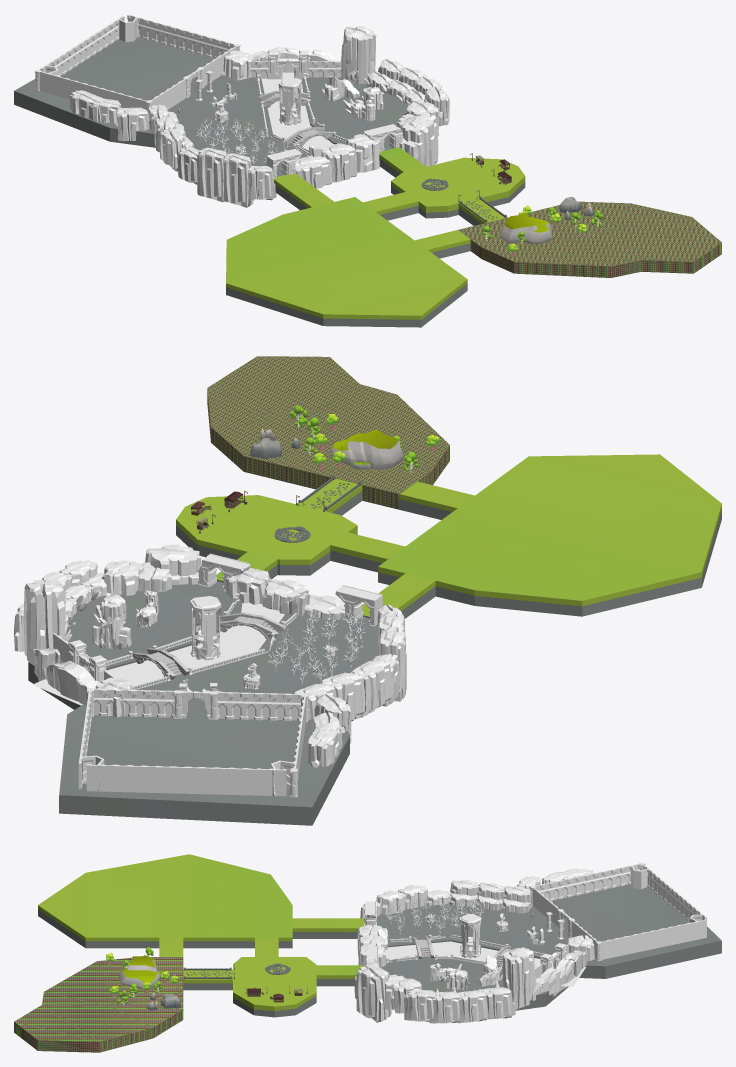
The model's file is map1.glb.
The picture shows the model from 3 angles, top to bottom: view 1: azimuth 30°, elevation 25°; view 2: azimuth 150°, elevation 25°; view 3: azimuth 270°, elevation 25°; orthographic projection. The views are drawn at different scales.
Parts seen in each view (by area): view 1: MiddleLevelFloor, HighLevelFloor, LowLevelFloor, CityFloor, SM_Env_Rock_Cliff_Cut_01, SM_Env_Lava_Plane_01, SM_Env_Rock_Cliff_Cut_01__21_, SM_Env_Rock_Cliff_Cut_01__22_, PathFloor_3, SM_Env_Rock_Cliff_Cut_01__12_, Rock_Platform_Medium_GrassVariant, SM_Env_Rock_Cliff_Cut_01__3_ (+15 smaller); view 2: MiddleLevelFloor, HighLevelFloor, LowLevelFloor, CityFloor, SM_Env_Lava_Plane_01, SM_Env_Rock_Cliff_Cut_01, Rock_Platform_Medium_GrassVariant, PathFloor_1, PathFloo, Scene.077, PathFloor_3, SM_Env_Rock_Cliff_Cut_01__32_ (+23 smaller); view 3: MiddleLevelFloor, HighLevelFloor, LowLevelFloor, CityFloor, SM_Env_Rock_Cliff_Cut_01, SM_Env_Rock_Cliff_Cut_01__12_, PathFloor_3, SM_Env_Lava_Plane_01, PathFloor, Rock_Platform_Medium_GrassVariant, PathFloor_2, SM_Env_Rock_Cliff_Cut_01__26_ (+29 smaller).
Part boxes in pixels (bbox=[...]): MiddleLevelFloor: bbox=[226, 197, 467, 327]; HighLevelFloor: bbox=[14, 37, 408, 195]; LowLevelFloor: bbox=[458, 201, 721, 277]; CityFloor: bbox=[391, 157, 525, 218]; SM_Env_Rock_Cliff_Cut_01: bbox=[341, 26, 376, 83]; SM_Env_Lava_Plane_01: bbox=[261, 72, 334, 150]; SM_Env_Rock_Cliff_Cut_01__21_: bbox=[197, 147, 226, 202]; SM_Env_Rock_Cliff_Cut_01__22_: bbox=[223, 153, 253, 207]; PathFloor_3: bbox=[273, 173, 333, 210]; SM_Env_Rock_Cliff_Cut_01__12_: bbox=[402, 114, 438, 166]; Rock_Platform_Medium_GrassVariant: bbox=[500, 212, 552, 244]; SM_Env_Rock_Cliff_Cut_01__3_: bbox=[321, 143, 359, 182]; MiddleLevelFloor: bbox=[378, 454, 721, 616]; HighLevelFloor: bbox=[28, 581, 379, 825]; LowLevelFloor: bbox=[207, 356, 449, 509]; CityFloor: bbox=[176, 495, 357, 575]; SM_Env_Lava_Plane_01: bbox=[32, 602, 284, 705]; SM_Env_Rock_Cliff_Cut_01: bbox=[23, 579, 66, 660]; Rock_Platform_Medium_GrassVariant: bbox=[330, 429, 403, 469]; PathFloor_1: bbox=[398, 481, 474, 519]; PathFloo: bbox=[330, 532, 405, 572]; Scene.077: bbox=[190, 596, 221, 660]; PathFloor_3: bbox=[362, 573, 435, 618]; SM_Env_Rock_Cliff_Cut_01__32_: bbox=[352, 660, 393, 711]; MiddleLevelFloor: bbox=[38, 854, 292, 948]; HighLevelFloor: bbox=[376, 884, 721, 1010]; LowLevelFloor: bbox=[14, 957, 183, 1052]; CityFloor: bbox=[233, 957, 316, 1017]; SM_Env_Rock_Cliff_Cut_01: bbox=[503, 948, 536, 1009]; SM_Env_Rock_Cliff_Cut_01__12_: bbox=[356, 965, 391, 1022]; PathFloor_3: bbox=[292, 918, 364, 938]; SM_Env_Lava_Plane_01: bbox=[385, 941, 585, 987]; PathFloor: bbox=[183, 969, 232, 990]; Rock_Platform_Medium_GrassVariant: bbox=[119, 956, 160, 989]; PathFloor_2: bbox=[316, 965, 365, 986]; SM_Env_Rock_Cliff_Cut_01__26_: bbox=[458, 990, 488, 1022].
Bounding box in the file's own units: 223 × 39.31 × 356.
14 materials, 8 textured.
